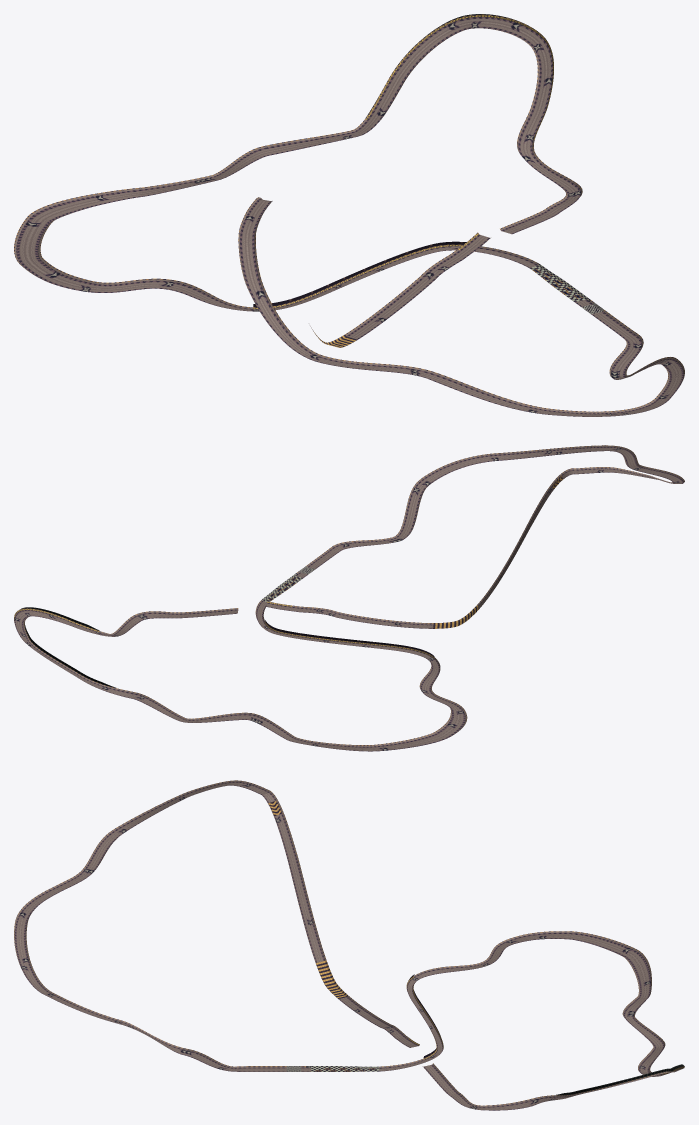
The model's file is Track_03_mesh.glb.
3 views of the same model, one above another, from view 1: azimuth 30°, elevation 25°; view 2: azimuth 150°, elevation 25°; view 3: azimuth 270°, elevation 25° (orthographic). The views are drawn at different scales.
Parts seen in each view (by area): view 1: Mesh_0; view 2: Mesh_0; view 3: Mesh_0.
Part boxes in pixels (x1,y1,x2,y2): Mesh_0: (14, 14, 684, 416); Mesh_0: (14, 445, 684, 751); Mesh_0: (14, 780, 684, 1110).
Bounding box in the file's own units: 1712 × 596 × 2284.
20 materials, 20 textured.
